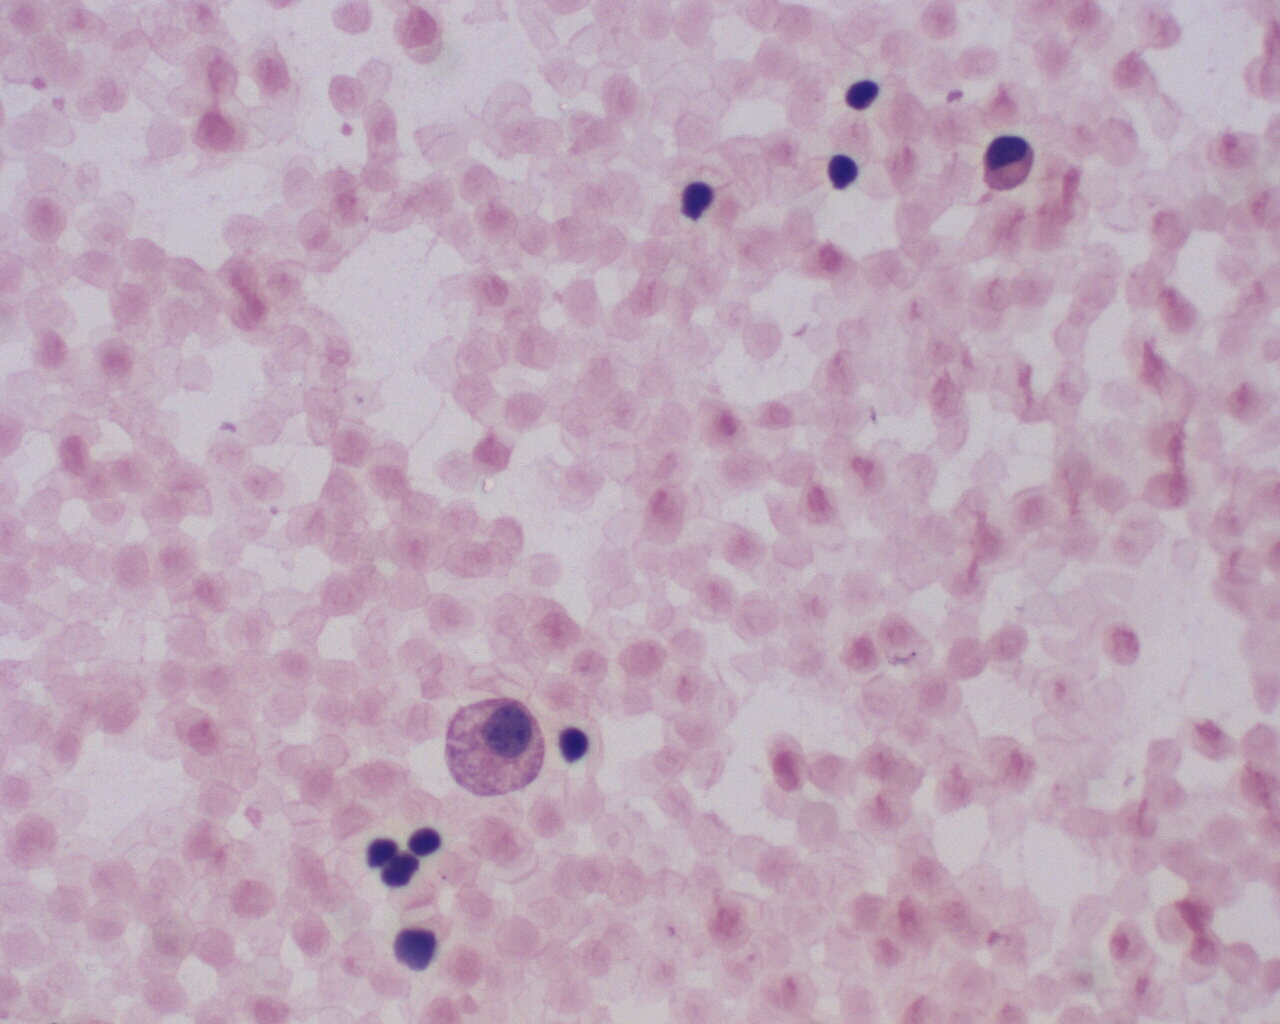histo: (436, 698, 550, 802)
lymph: (552, 718, 596, 768), (834, 74, 885, 116), (821, 148, 865, 194), (408, 820, 449, 862)
